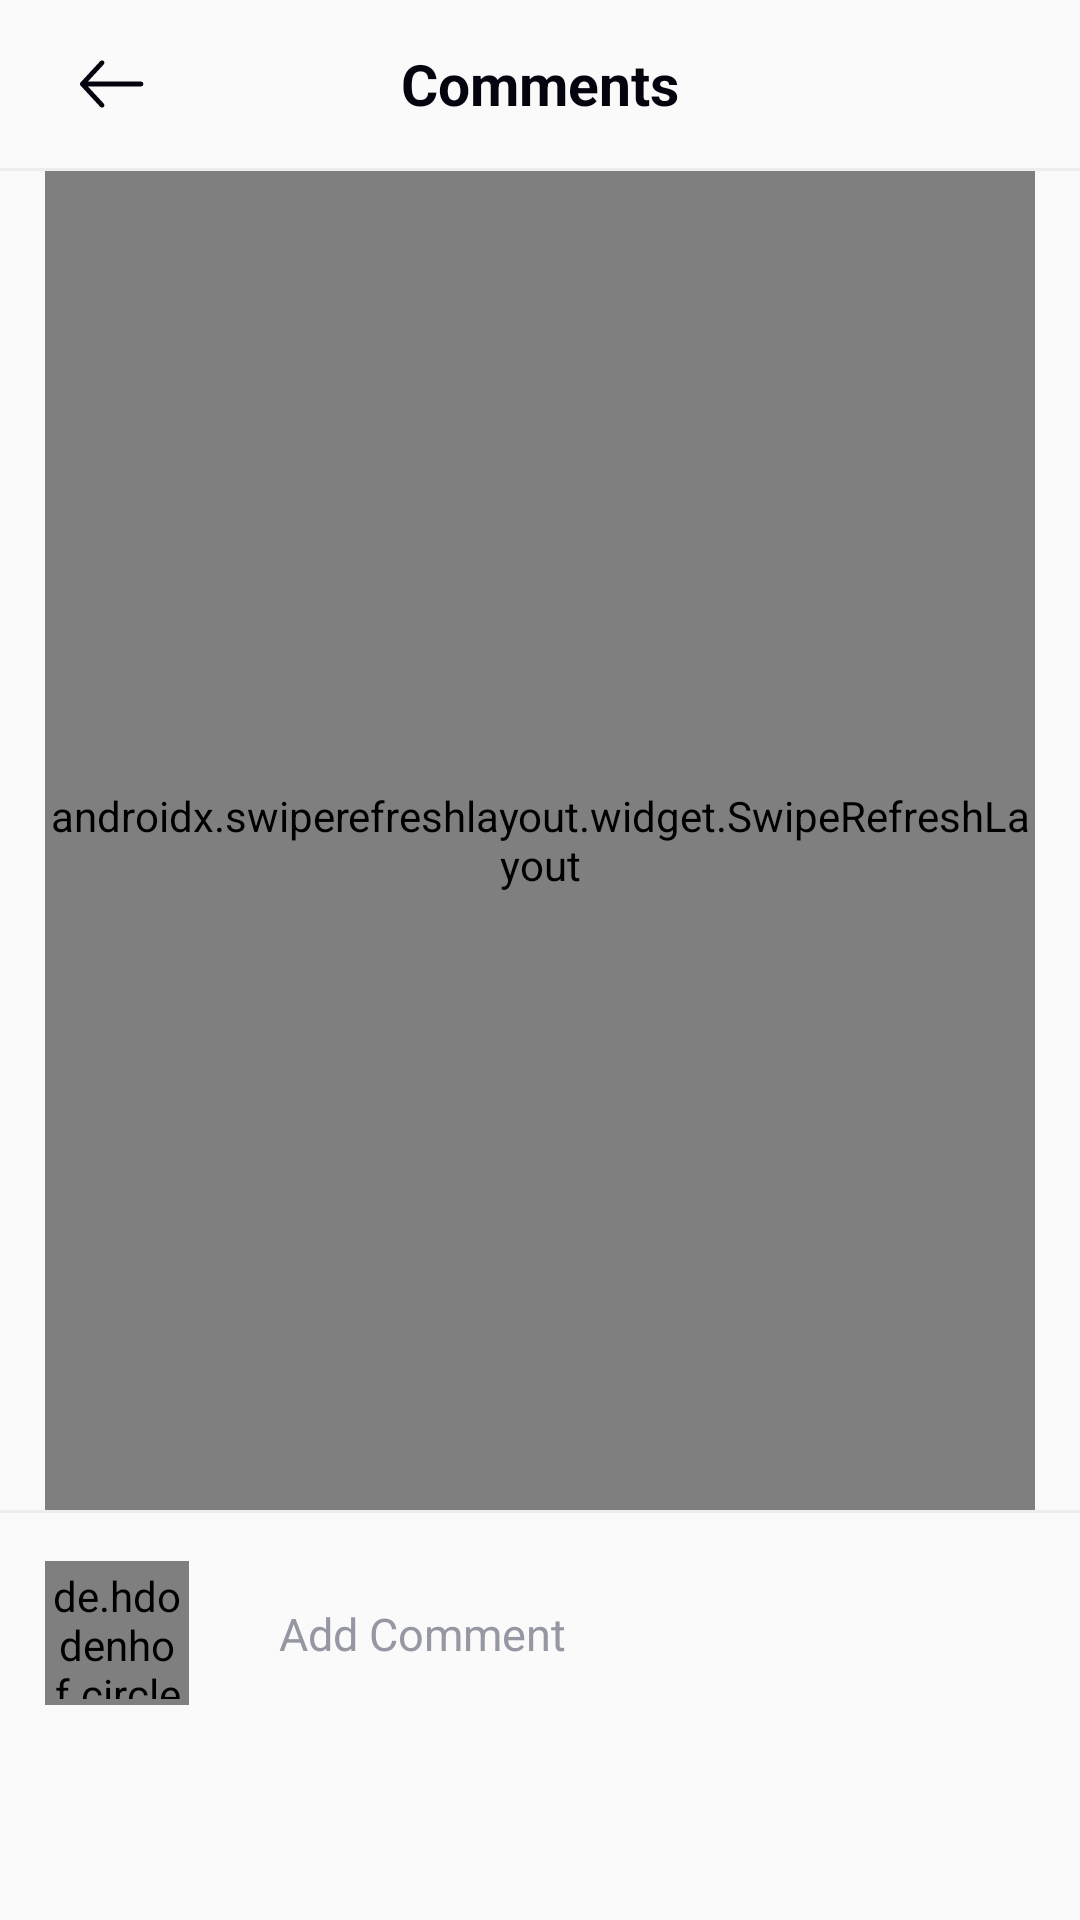

Screen size 1080*1920. Icon name, then its center in pixels as point (x, y):
Button back: point (112, 84)
